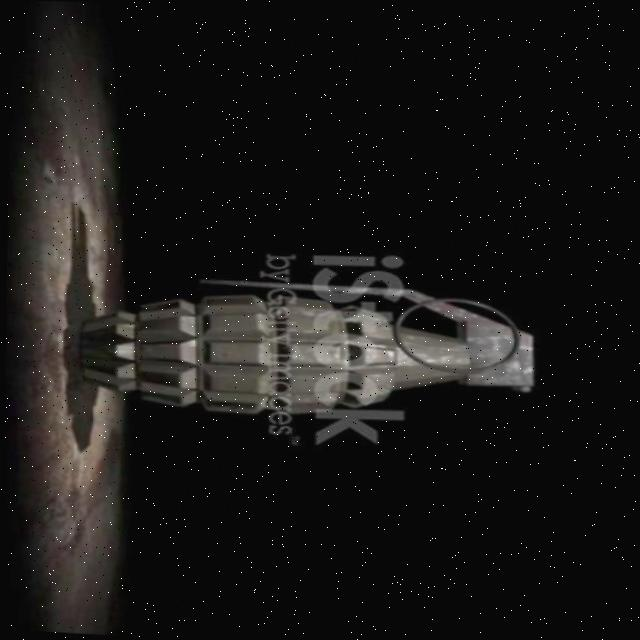grenade: (62, 254, 561, 438)
